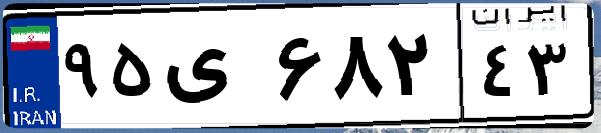2: (385, 28, 445, 110)
3: (525, 38, 570, 115)
4: (475, 38, 525, 113)
5: (110, 28, 158, 98)
6: (270, 28, 330, 110)
8: (330, 28, 385, 110)
9: (57, 26, 110, 100)
ی: (158, 20, 270, 120)
